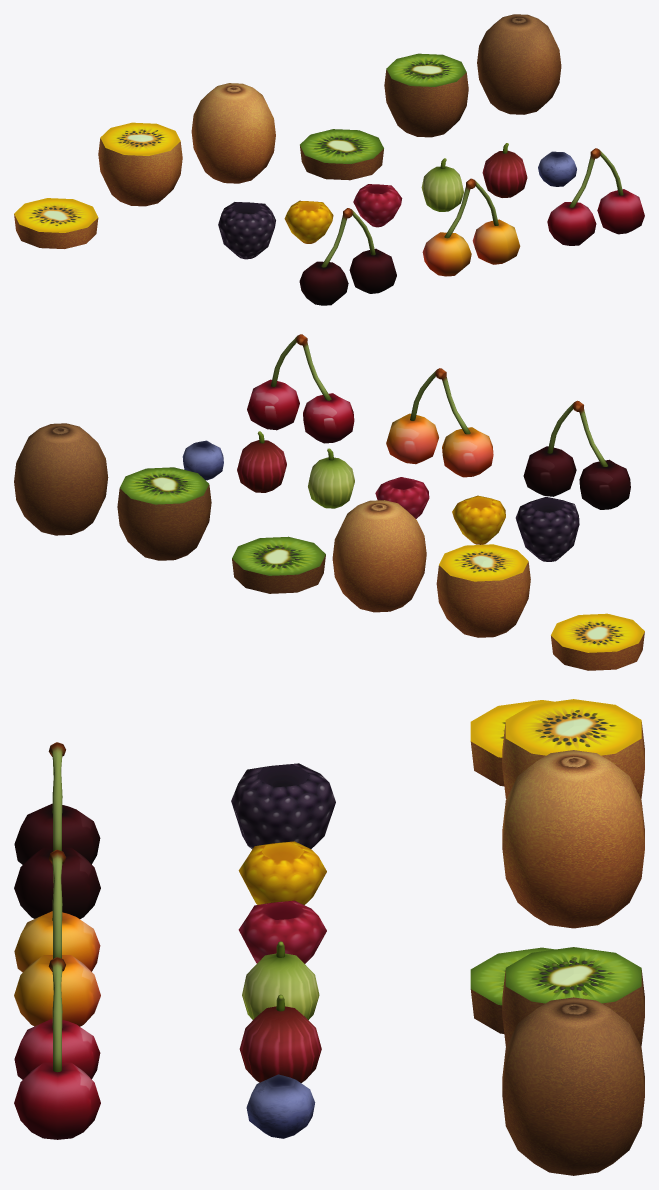
File: Kiwi, cherry cherry and other berries_.fbx
3 views of the same model, one above another, from view 1: azimuth 30°, elevation 25°; view 2: azimuth 150°, elevation 25°; view 3: azimuth 270°, elevation 25° (orthographic). The views are drawn at different scales.
Visible parts, largest first — view 1: Kiwi_Whole, Kiwi_Yellow_Whole, Kiwi_Yellow_Half, Kiwi_Half, Cherry_Yellow, Cherry_Black, Cherry, Kiwi_Slice, Kiwi_Yellow_Slice, Blackberry, Gooseberry_Red, Gooseberry_Green (+3 smaller); view 2: Kiwi_Whole, Kiwi_Yellow_Whole, Kiwi_Half, Kiwi_Yellow_Half, Cherry, Cherry_Yellow, Cherry_Black, Kiwi_Yellow_Slice, Kiwi_Slice, Blackberry, Gooseberry_Red, Gooseberry_Green (+3 smaller); view 3: Kiwi_Yellow_Whole, Kiwi_Whole, Cherry, Kiwi_Yellow_Half, Cherry_Yellow, Cherry_Black, Kiwi_Half, Blackberry, Gooseberry_Red, Raspberry_Yellow, Raspberry_Red, Gooseberry_Green (+3 smaller).
Part boxes in pixels (<box>): Kiwi_Whole: <box>477,14,561,114</box>; Kiwi_Yellow_Whole: <box>191,83,275,183</box>; Kiwi_Yellow_Half: <box>98,122,182,206</box>; Kiwi_Half: <box>384,53,468,137</box>; Cherry_Yellow: <box>422,178,520,276</box>; Cherry_Black: <box>299,208,396,305</box>; Cherry: <box>547,148,644,245</box>; Kiwi_Slice: <box>300,129,383,180</box>; Kiwi_Yellow_Slice: <box>14,198,98,248</box>; Blackberry: <box>218,202,275,259</box>; Gooseberry_Red: <box>482,143,527,197</box>; Gooseberry_Green: <box>421,158,463,211</box>; Kiwi_Whole: <box>14,423,108,535</box>; Kiwi_Yellow_Whole: <box>332,500,426,612</box>; Kiwi_Half: <box>117,467,211,560</box>; Kiwi_Yellow_Half: <box>436,544,530,637</box>; Cherry: <box>247,334,354,443</box>; Cherry_Yellow: <box>386,368,493,477</box>; Cherry_Black: <box>523,400,630,509</box>; Kiwi_Yellow_Slice: <box>551,613,644,670</box>; Kiwi_Slice: <box>232,536,325,593</box>; Blackberry: <box>515,496,579,561</box>; Gooseberry_Red: <box>237,431,286,492</box>; Gooseberry_Green: <box>308,448,354,508</box>; Kiwi_Yellow_Whole: <box>502,750,644,928</box>; Kiwi_Whole: <box>502,997,644,1175</box>; Cherry: <box>14,957,100,1139</box>; Kiwi_Yellow_Half: <box>502,699,644,798</box>; Cherry_Yellow: <box>14,849,100,1026</box>; Cherry_Black: <box>14,742,100,918</box>; Kiwi_Half: <box>502,947,644,1046</box>; Blackberry: <box>231,763,335,849</box>; Gooseberry_Red: <box>239,994,321,1082</box>; Raspberry_Yellow: <box>238,841,326,904</box>; Raspberry_Red: <box>238,900,326,963</box>; Gooseberry_Green: <box>242,941,319,1019</box>.
Size of the model in its own units: 175 by 28.68 by 99.51.
Materials: 3 (3 with a texture image).
